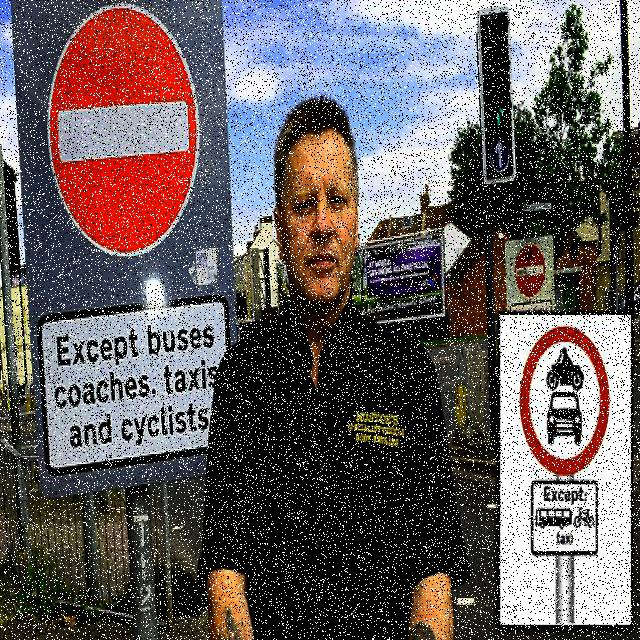no entry: (46, 3, 202, 256), (514, 243, 544, 296)
